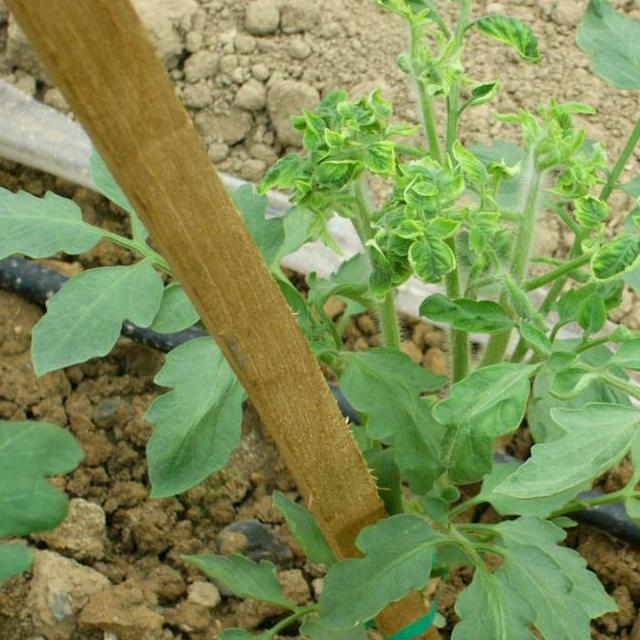Tomato leaf: (331, 336, 453, 483), (138, 332, 240, 494), (28, 253, 152, 378), (315, 512, 439, 635), (509, 380, 640, 493), (0, 171, 113, 276), (494, 542, 608, 640), (434, 562, 547, 640), (180, 544, 300, 608), (575, 0, 640, 109), (603, 326, 640, 376), (622, 491, 640, 585)
